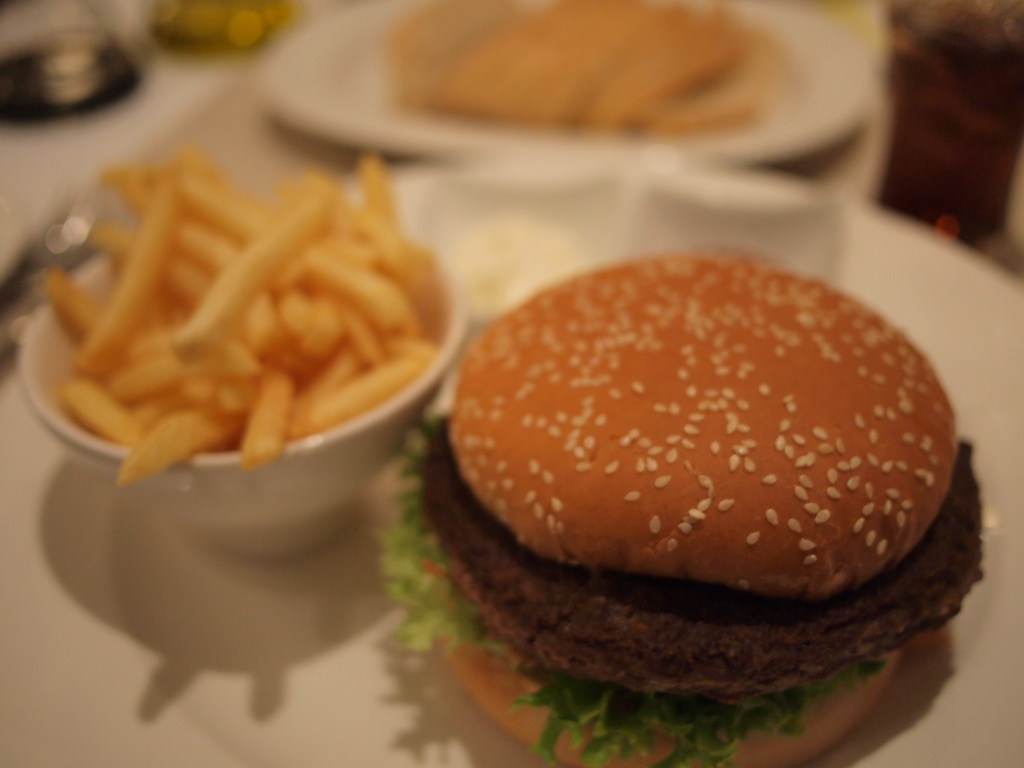French fries: (40, 130, 444, 496)
